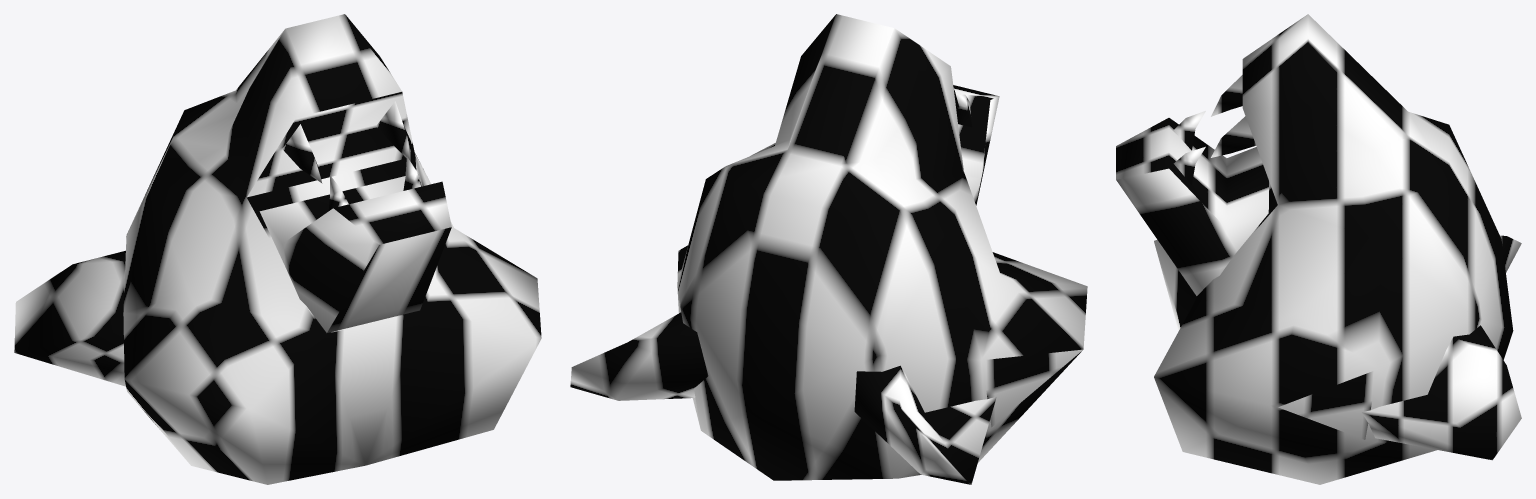
File: infaunanwiti.dae
The picture shows the model from 3 angles, left to right: view 1: azimuth 30°, elevation 25°; view 2: azimuth 150°, elevation 25°; view 3: azimuth 270°, elevation 25°; orthographic projection. The views are drawn at different scales.
Visible parts, largest first — view 1: face; view 2: face; view 3: face.
Boxes of the visible parts, <box> form: face: <box>14,14,541,484</box>; face: <box>570,14,1087,484</box>; face: <box>1116,14,1521,484</box>.
Size of the model in its own units: 2.01 by 1.79 by 2.09.
1 material, 1 textured.
